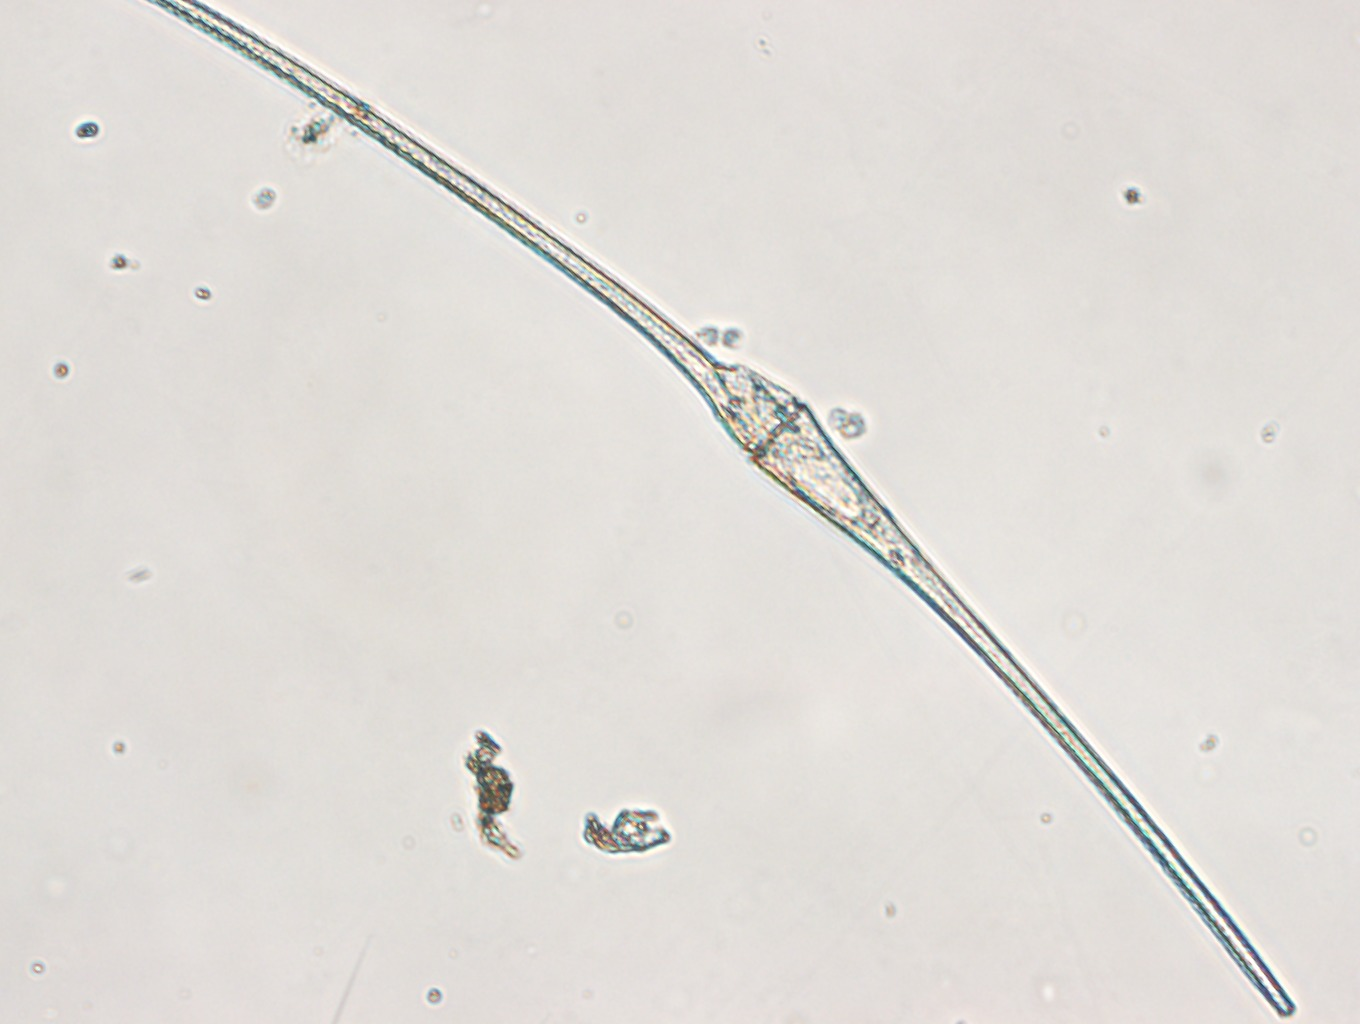ceratium fusus: (152, 2, 1299, 1024)
